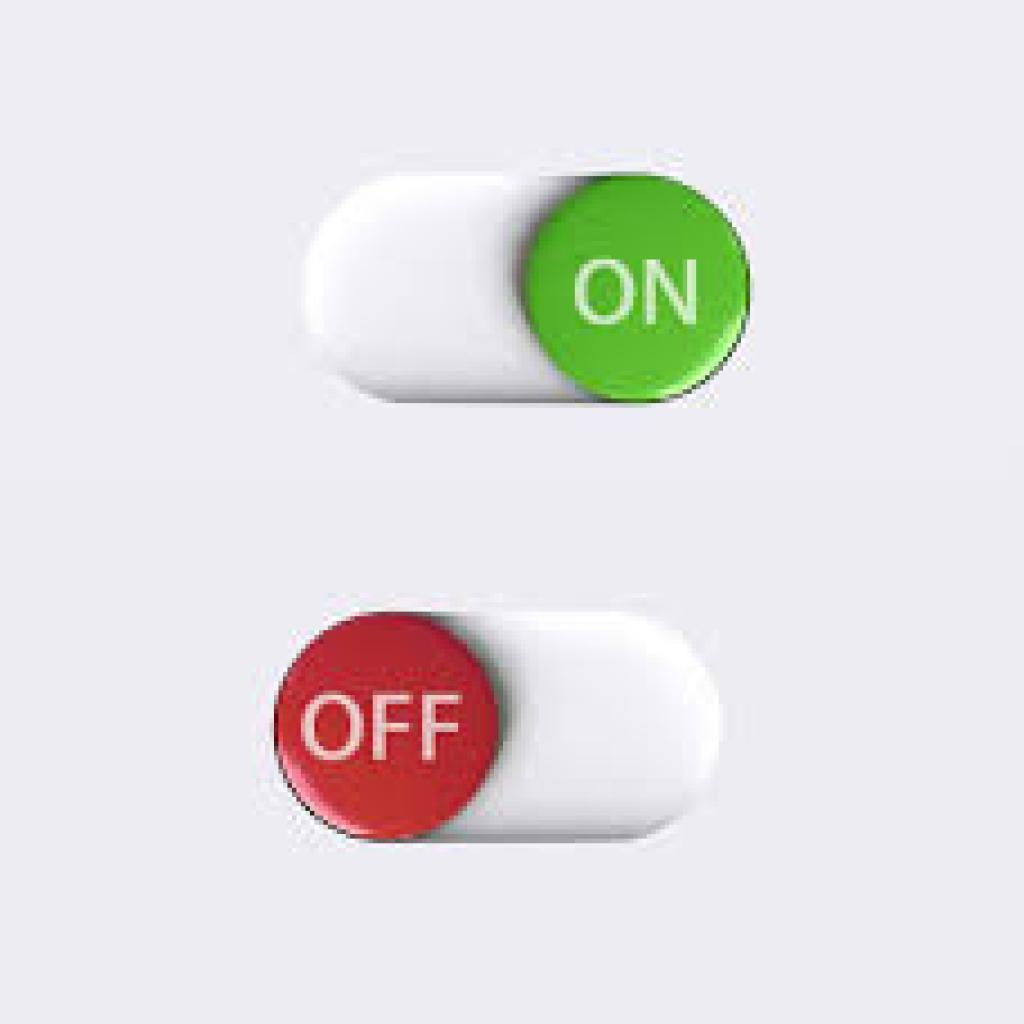switch: (286, 167, 754, 403), (270, 612, 730, 842)
